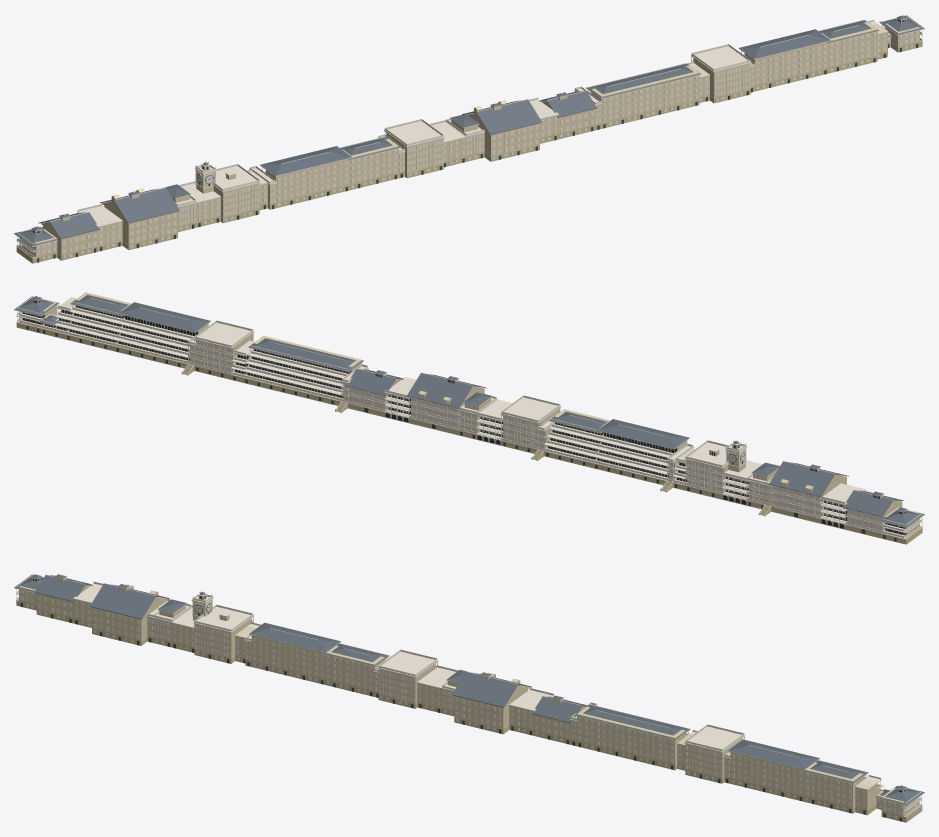
The model's file is ascot_main_stand_far.glb.
3 views of the same model, one above another, from view 1: azimuth 30°, elevation 25°; view 2: azimuth 150°, elevation 25°; view 3: azimuth 330°, elevation 25° (orthographic).
Visible parts, largest first — view 1: ascot_stand_far_wall, ascot_stand_far_trim, ascot_stand_far_roof, ascot_stand_far_podium, ascot_stand_far_door; view 2: ascot_stand_far_trim, ascot_stand_far_roof, ascot_stand_far_wall, ascot_stand_far_glass, ascot_stand_far_podium, ascot_stand_far_iron, ascot_stand_far_door; view 3: ascot_stand_far_wall, ascot_stand_far_trim, ascot_stand_far_roof, ascot_stand_far_podium, ascot_stand_far_door.
Boxes of the visible parts, bbox=[...] form: ascot_stand_far_wall: bbox=[22, 19, 919, 257]; ascot_stand_far_trim: bbox=[14, 15, 924, 259]; ascot_stand_far_roof: bbox=[14, 15, 924, 246]; ascot_stand_far_podium: bbox=[16, 40, 922, 263]; ascot_stand_far_door: bbox=[37, 44, 918, 262]; ascot_stand_far_trim: bbox=[14, 296, 924, 539]; ascot_stand_far_roof: bbox=[14, 295, 924, 527]; ascot_stand_far_wall: bbox=[32, 292, 919, 535]; ascot_stand_far_glass: bbox=[22, 300, 906, 535]; ascot_stand_far_podium: bbox=[16, 320, 922, 544]; ascot_stand_far_iron: bbox=[384, 394, 845, 523]; ascot_stand_far_door: bbox=[26, 326, 896, 541]; ascot_stand_far_wall: bbox=[19, 578, 916, 816]; ascot_stand_far_trim: bbox=[14, 574, 924, 818]; ascot_stand_far_roof: bbox=[14, 574, 924, 805]; ascot_stand_far_podium: bbox=[16, 599, 922, 822]; ascot_stand_far_door: bbox=[20, 603, 901, 821].
Bounding box in the file's own units: 509 × 29.75 × 33.45.
